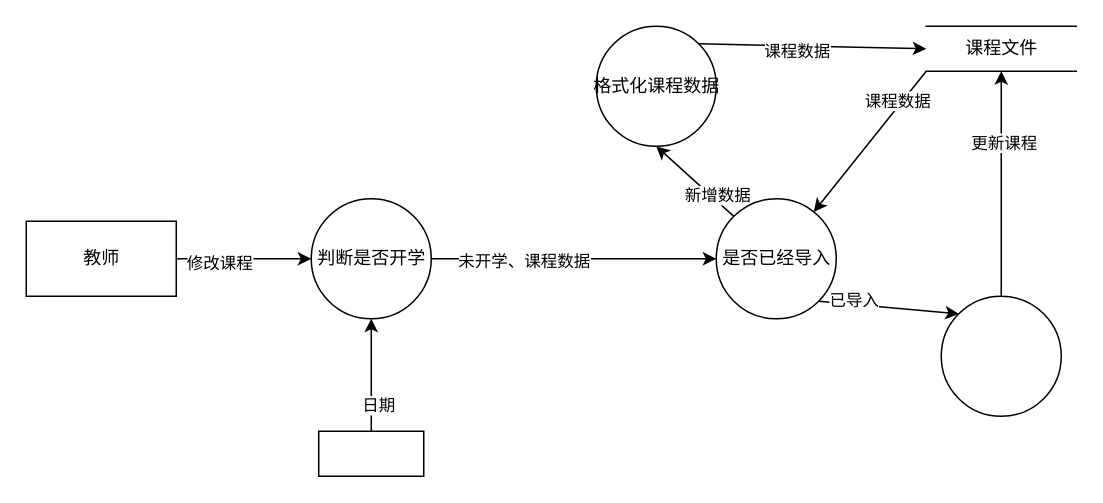
Some shapes in this 1103 by 503 pixel diagram are drawn without their labels. Here are the shapes that lost their labels. From the top down, the centre of each, then its label:
(1000,355): 比较差异
(370,453): 时钟
